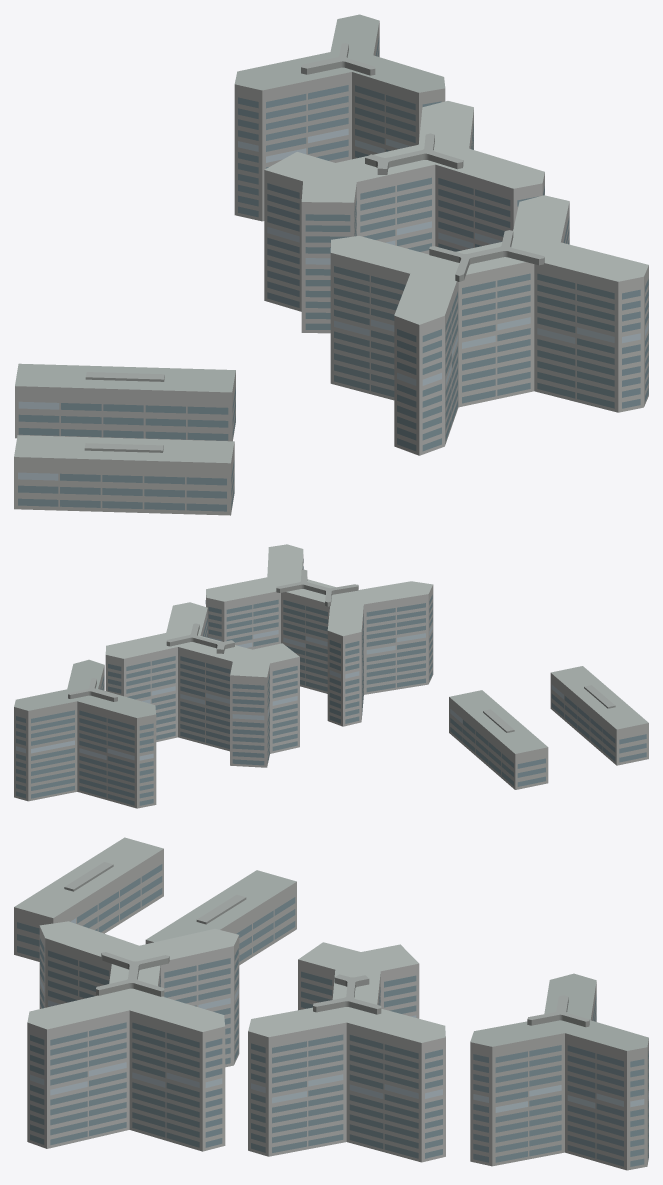
The model's file is apt-a15809502.glb.
3 views of the same model, one above another, from view 1: azimuth 30°, elevation 25°; view 2: azimuth 150°, elevation 25°; view 3: azimuth 270°, elevation 25° (orthographic). The views are drawn at different scales.
Visible parts, largest first — view 1: apt-a15809502; view 2: apt-a15809502; view 3: apt-a15809502.
Boxes of the visible parts, left/top/right/bottom form: apt-a15809502: left=14, top=14, right=648, bottom=515; apt-a15809502: left=14, top=544, right=648, bottom=808; apt-a15809502: left=14, top=837, right=648, bottom=1170.
Bounding box in the file's own units: 157 × 32 × 147.
